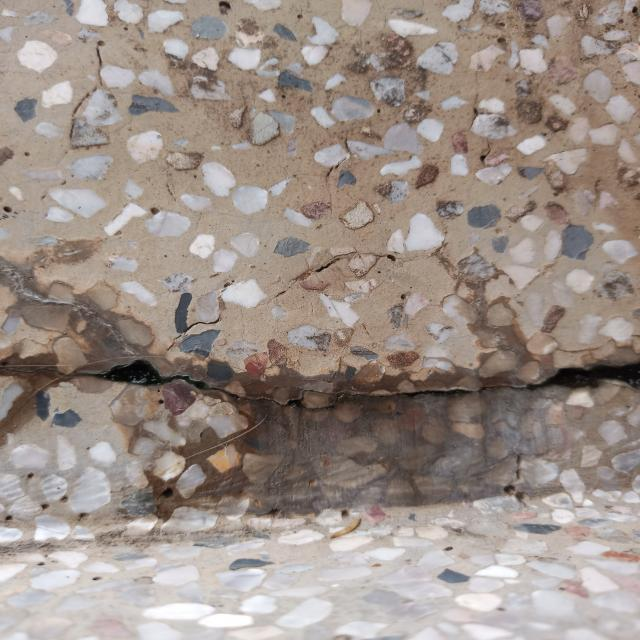horizontal crack: (0, 355, 639, 411)
